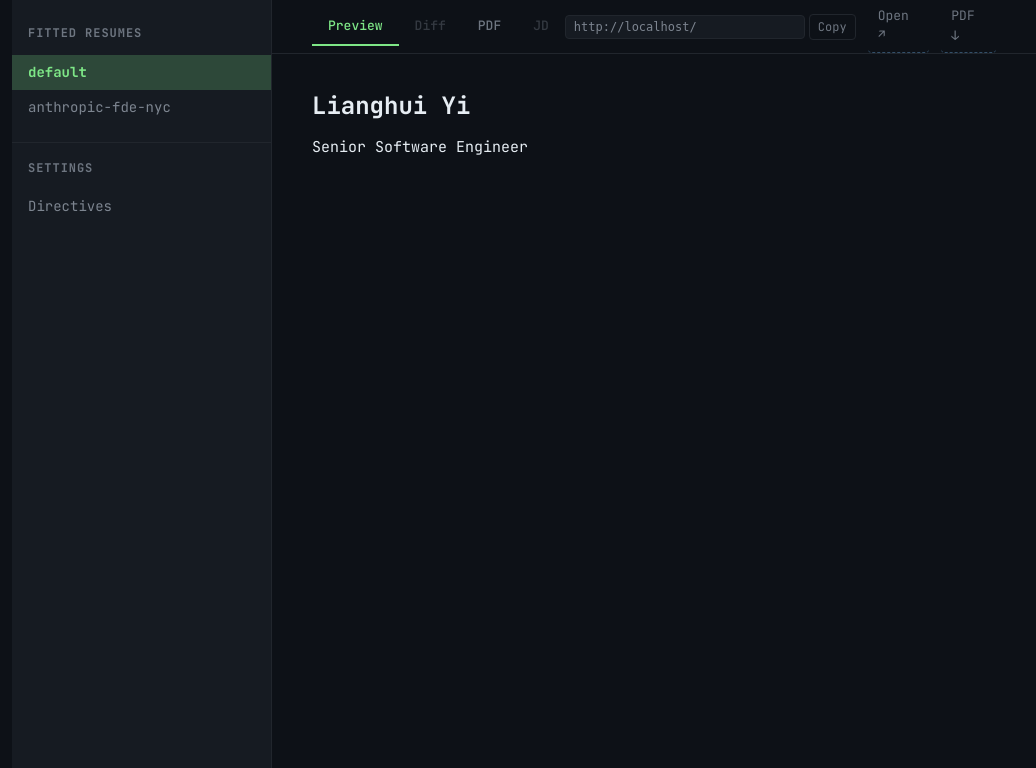
Test: Dashboard › switches between Preview and Diff tabs
Click the button "anthropic-fde-nyc" at (142, 108), box [12, 90, 271, 126]
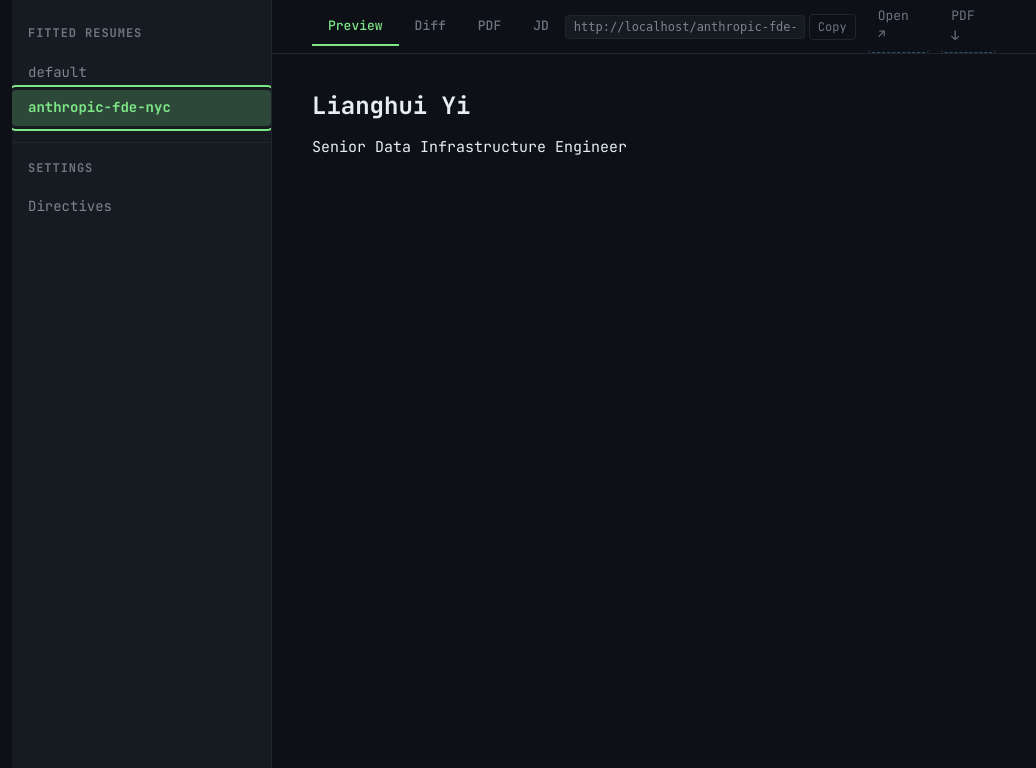
Now the text "Senior Data Infrastructure Engineer" is shown, box [312, 137, 627, 157]
Click the button "Diff" at (430, 27), box [399, 7, 462, 46]
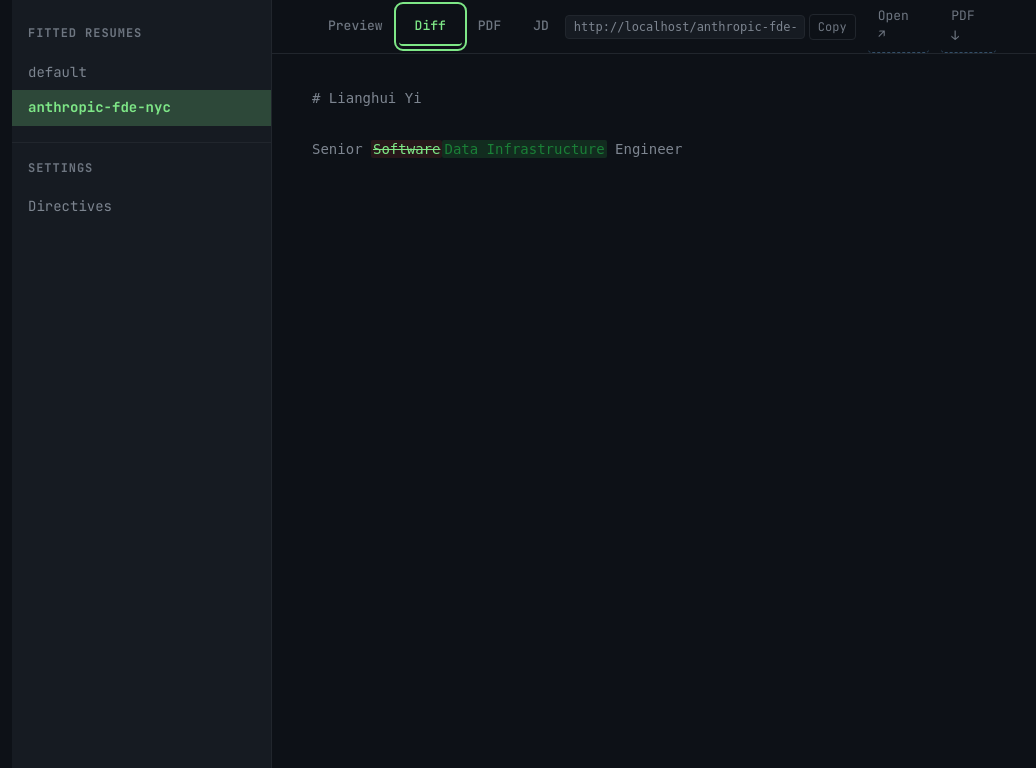
Now the element with test id "diff-container" is shown, box [312, 90, 682, 158]
